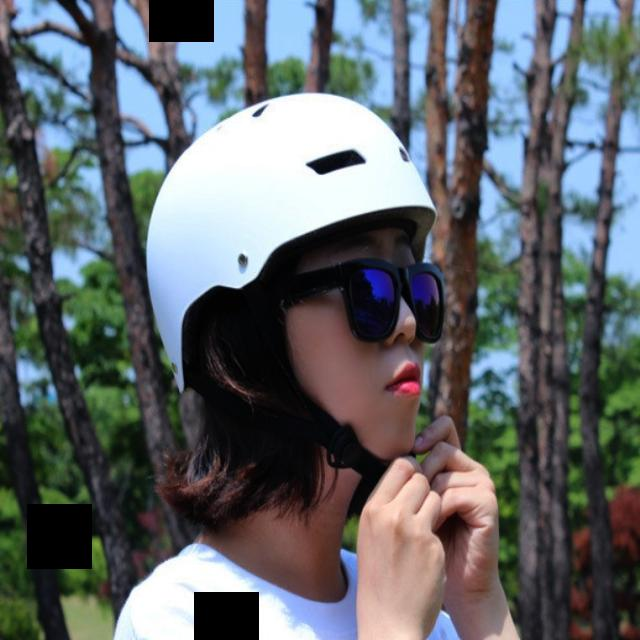Helmet: (148, 92, 444, 467)
